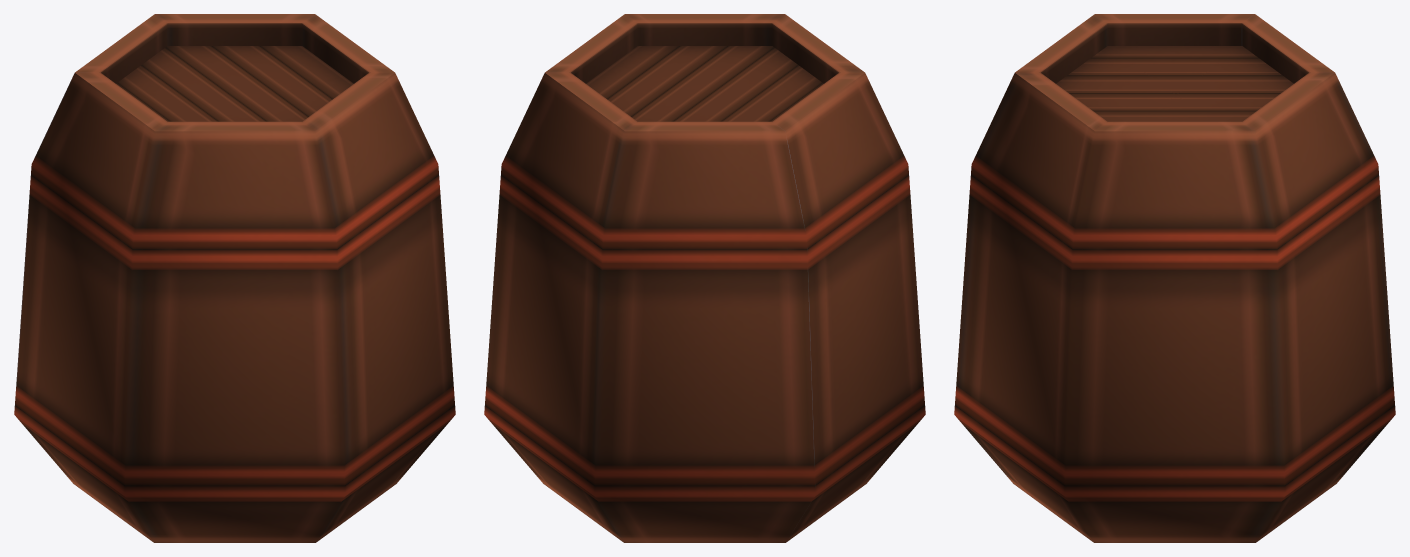
File: Barrel.FBX
3 renders of one model, left to right at view 1: azimuth 30°, elevation 25°; view 2: azimuth 150°, elevation 25°; view 3: azimuth 270°, elevation 25°, orthographic.
Parts seen in each view (by area): view 1: Barrel; view 2: Barrel; view 3: Barrel.
Boxes of the visible parts, bbox=[...] form: Barrel: bbox=[14, 14, 455, 542]; Barrel: bbox=[484, 14, 925, 542]; Barrel: bbox=[954, 14, 1395, 542].
Bounding box in the file's own units: 20.14 × 23.9 × 23.26.
